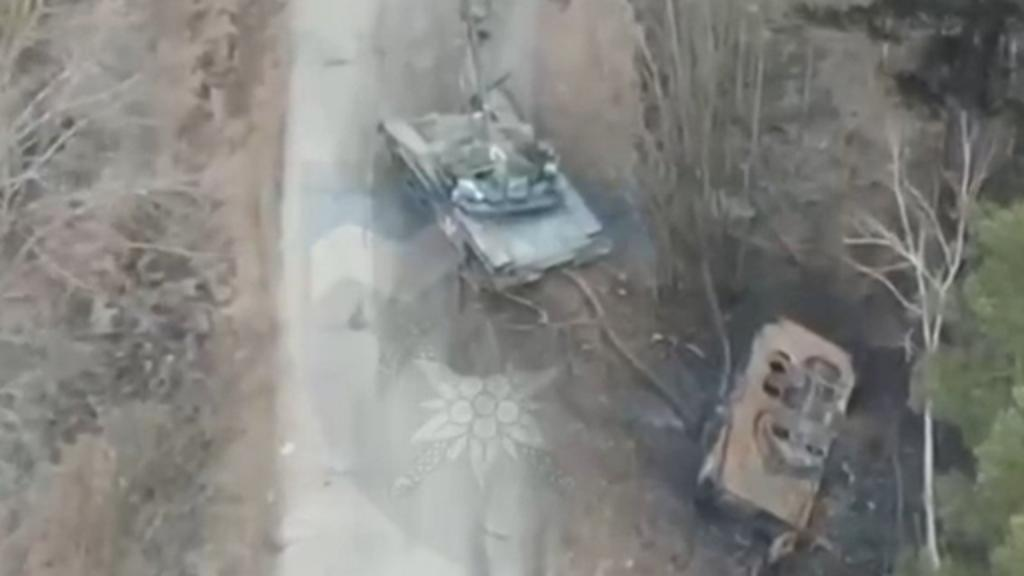APC-IFV: (700, 306, 858, 544)
TANK: (378, 26, 622, 302)
